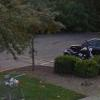Motorcycle: (60, 39, 96, 61)
